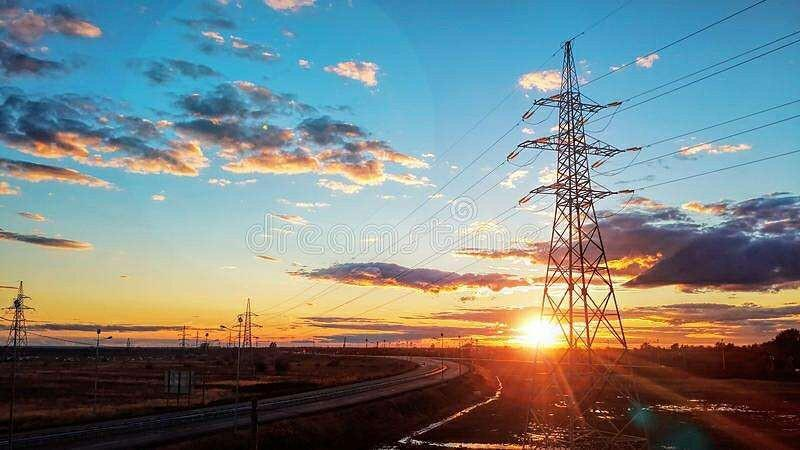power_tower: (516, 29, 654, 450), (0, 275, 35, 376), (234, 294, 265, 381)
